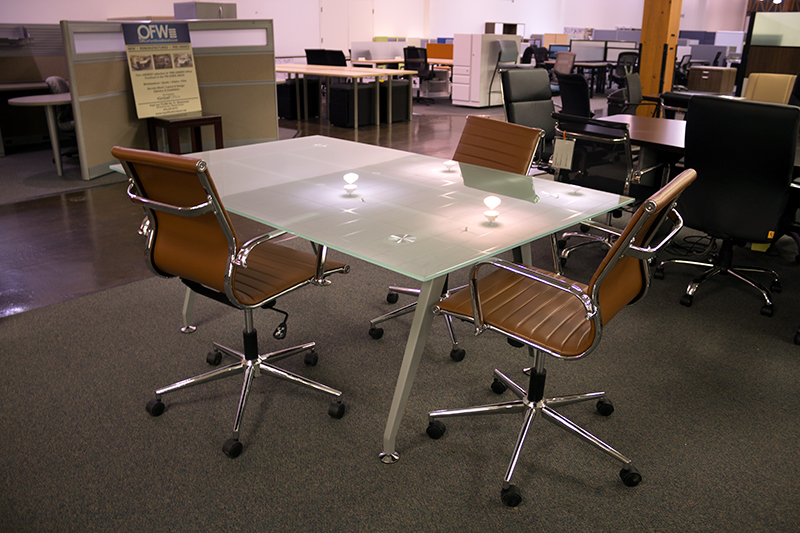conference_table: (110, 135, 637, 464), (578, 113, 800, 261), (276, 63, 421, 130)
